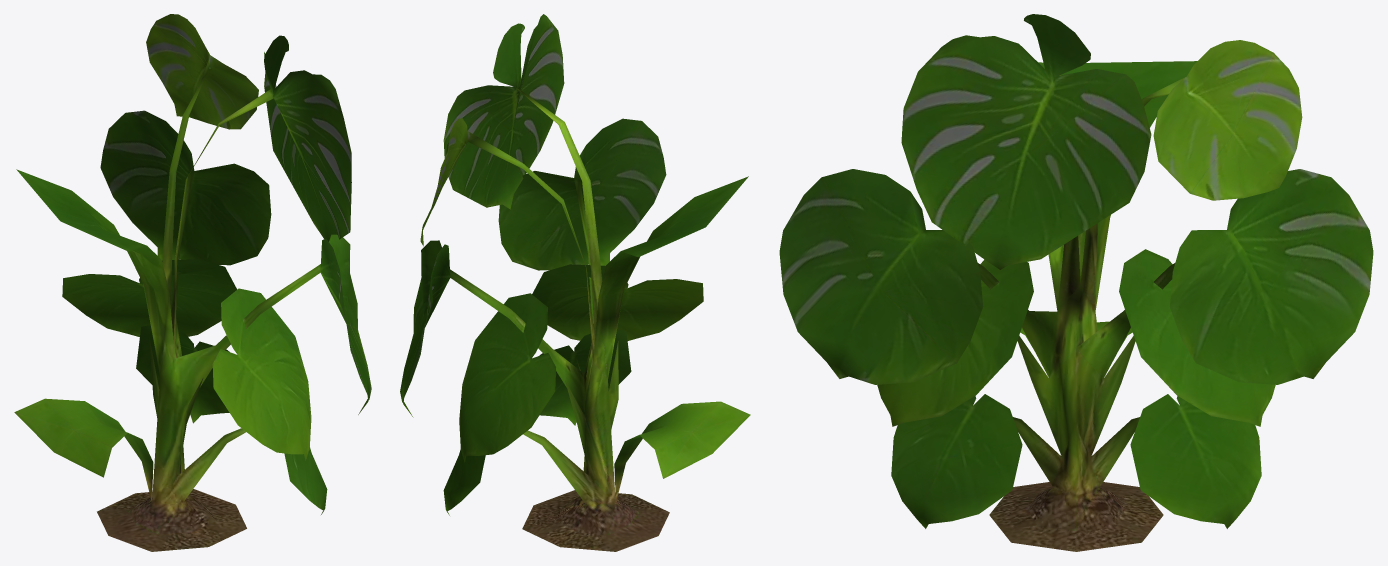
File: monsteraplant.full.glb
3 views of the same model, side by side, from view 1: azimuth 30°, elevation 25°; view 2: azimuth 150°, elevation 25°; view 3: azimuth 270°, elevation 25° (orthographic). The views are drawn at different scales.
Parts seen in each view (by area): view 1: model; view 2: model; view 3: model.
Boxes of the visible parts, left/top/right/bottom form: model: left=14, top=14, right=371, bottom=551; model: left=400, top=14, right=750, bottom=551; model: left=779, top=14, right=1373, bottom=551.
Size of the model in its own units: 0.5776 by 0.9995 by 0.9653.
2 materials, 2 textured.
